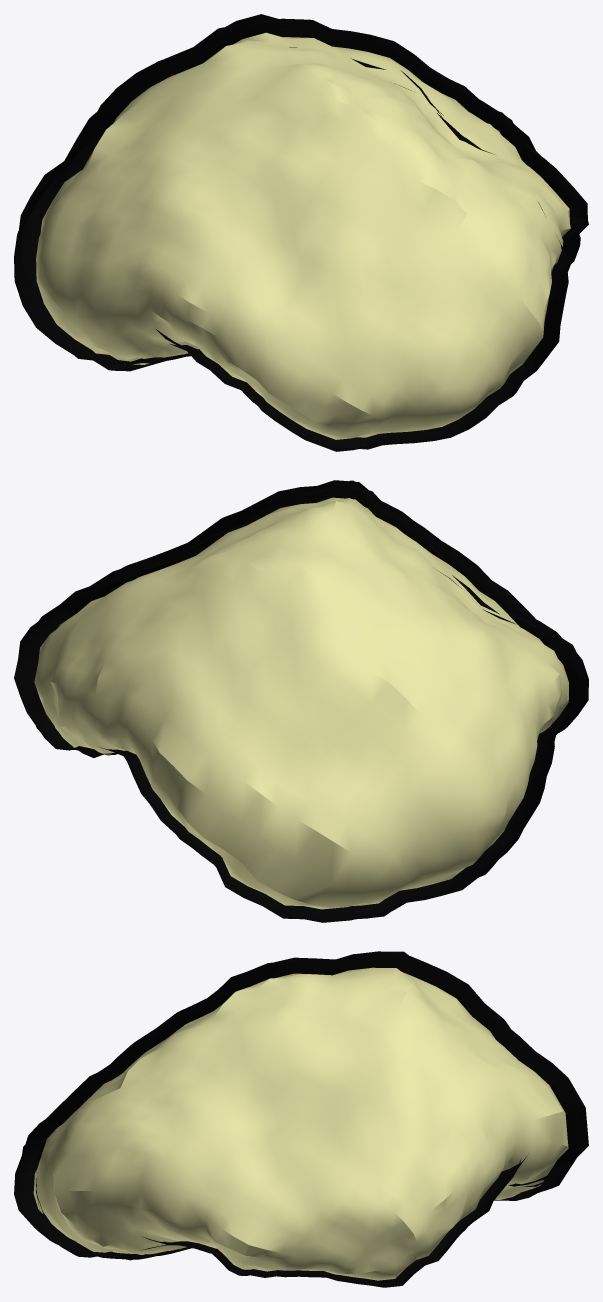
The model's file is Rock_3.fbx.
3 views of the same model, one above another, from view 1: azimuth 30°, elevation 25°; view 2: azimuth 150°, elevation 25°; view 3: azimuth 270°, elevation 25° (orthographic). The views are drawn at different scales.
Parts seen in each view (by area): view 1: rock.003; view 2: rock.003; view 3: rock.003.
Boxes of the visible parts, x1,y1,x2,y2 form: rock.003: (14, 14, 588, 451); rock.003: (14, 480, 588, 922); rock.003: (14, 951, 588, 1287).
Bounding box in the file's own units: 1421 × 890 × 1571.
